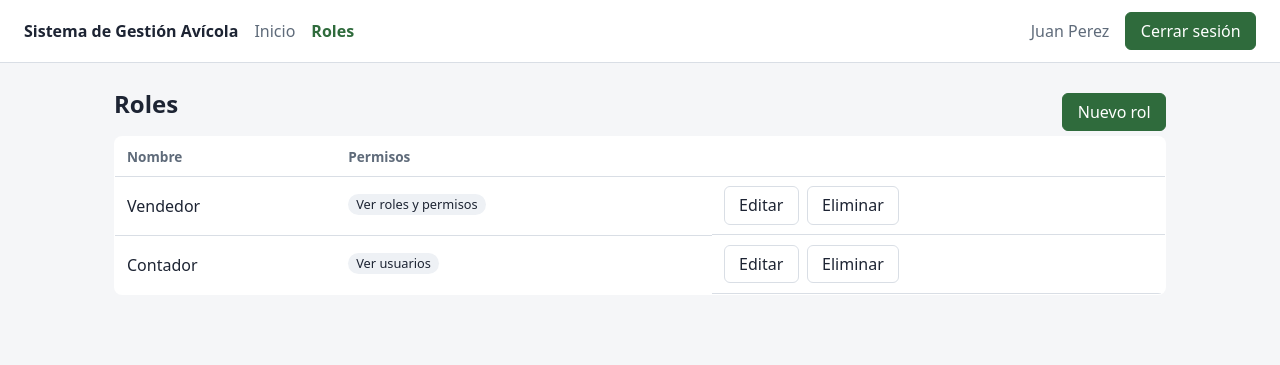
Test case: RolesPage › explains why a role in use cannot be deleted
This screenshot has width=1280, height=365.
Click the button "Eliminar" in the row of "Vendedor" at (853, 205), box [807,186,899,225]
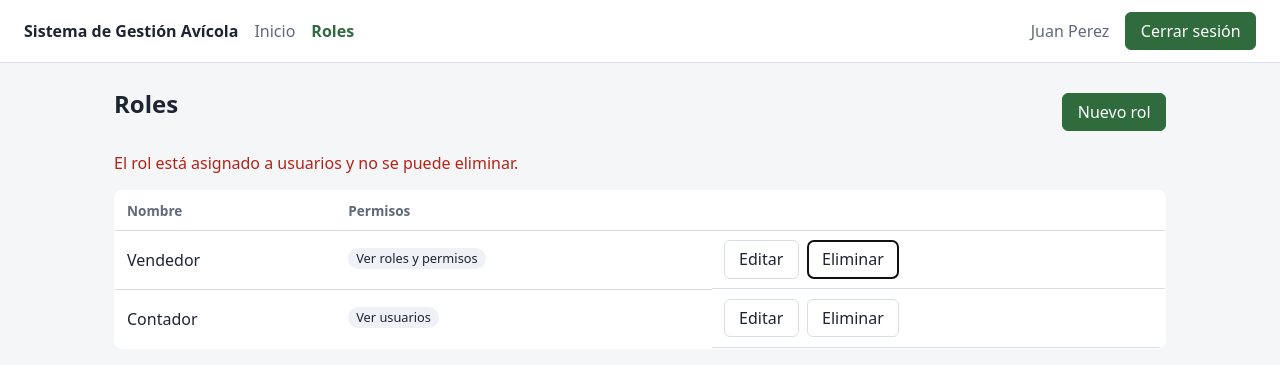
Expected: the message reads "El rol está asignado a usuarios y no se puede eliminar.", [114,152,518,174]
